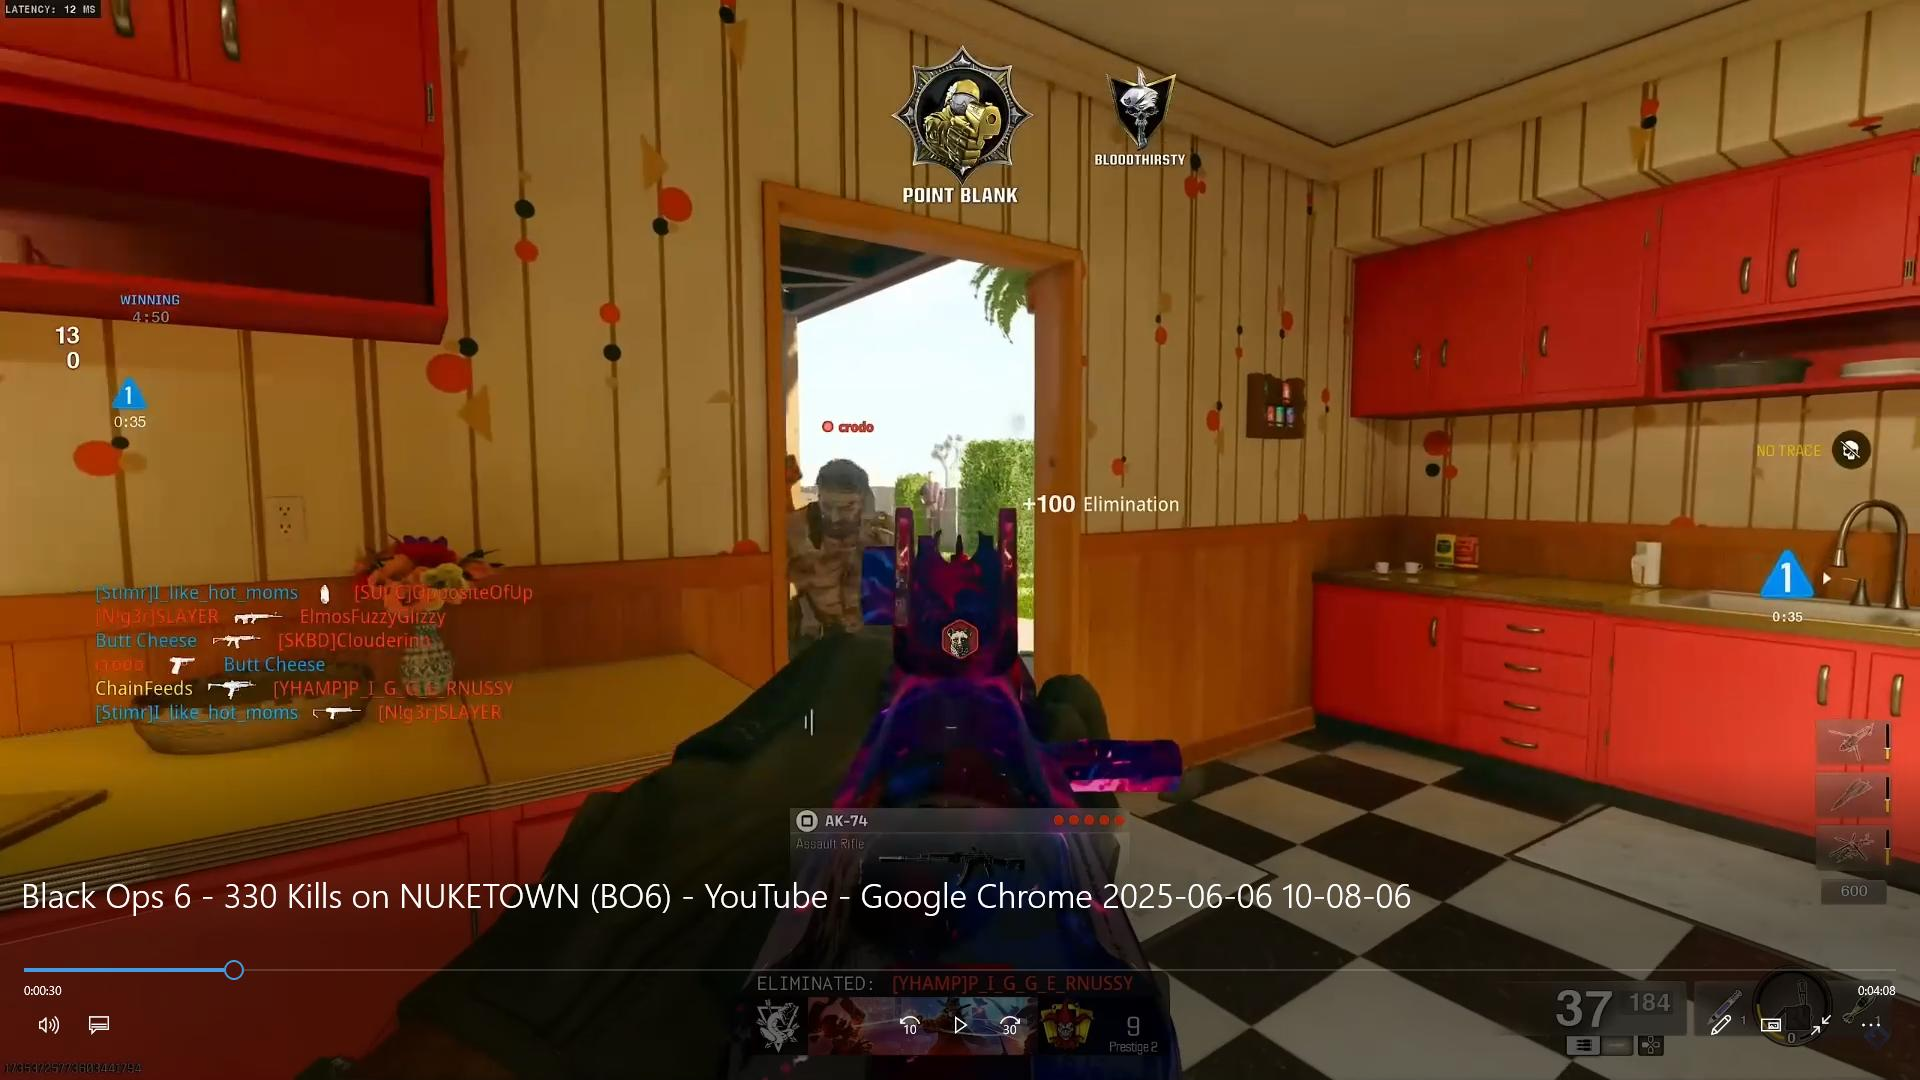Enemy: (787, 405, 893, 549)
